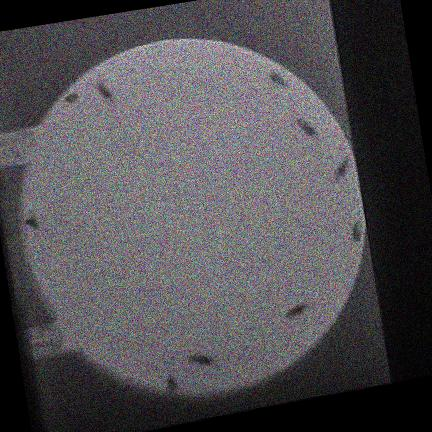fly: (96, 79, 117, 104), (298, 119, 319, 140), (334, 157, 350, 182), (286, 304, 309, 319), (190, 354, 214, 366), (270, 72, 288, 87), (24, 214, 39, 230), (352, 223, 362, 240), (167, 378, 179, 392), (65, 92, 80, 103)
